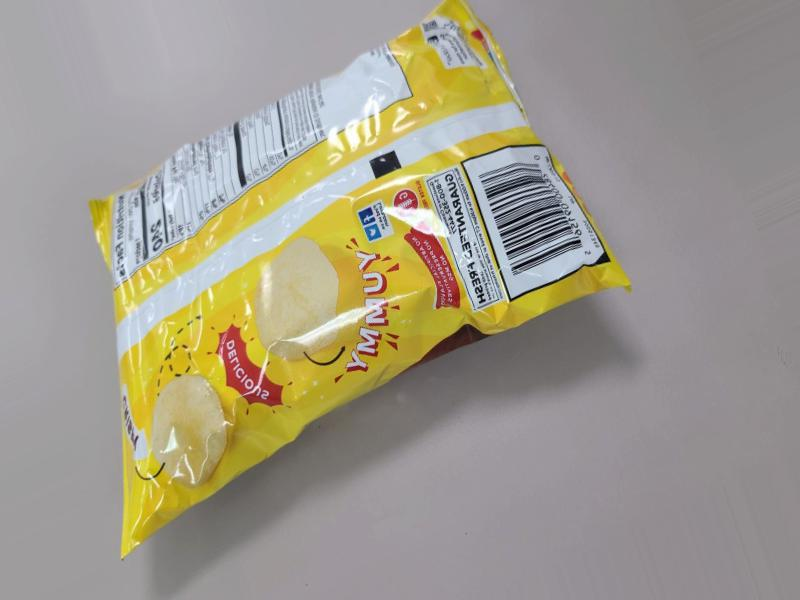lays: (174, 0, 584, 600)
